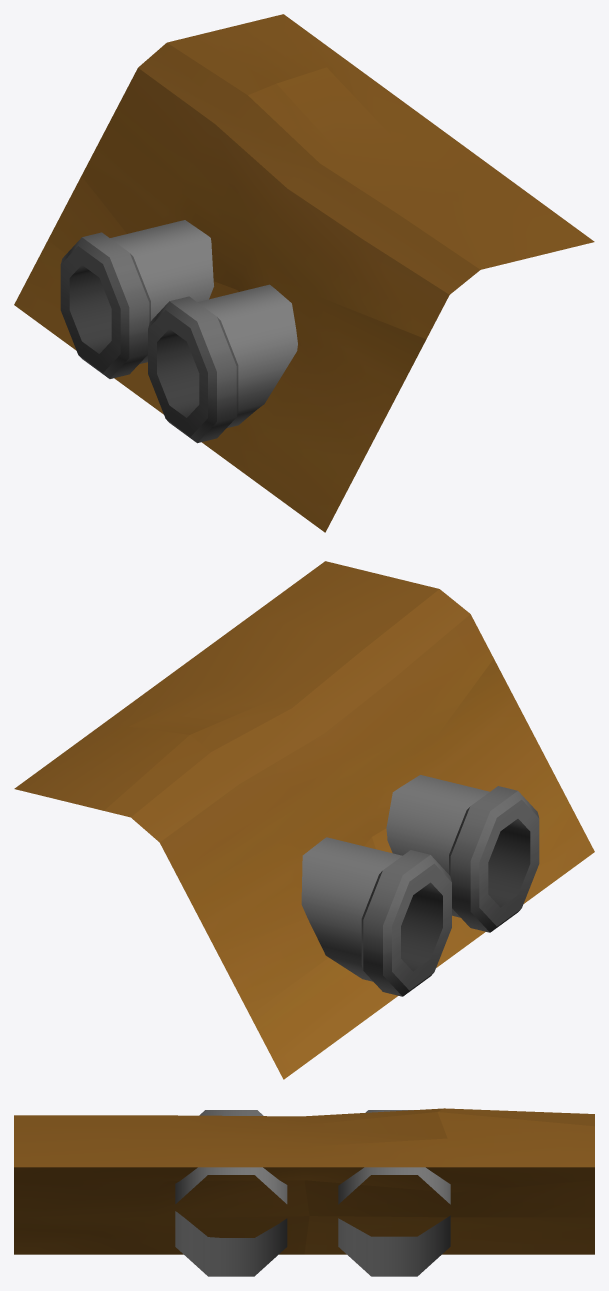
Rendered from cGround_A_Side_3.fbx.
3 views of the same model, one above another, from view 1: azimuth 30°, elevation 25°; view 2: azimuth 150°, elevation 25°; view 3: azimuth 270°, elevation 25° (orthographic). The views are drawn at different scales.
Parts seen in each view (by area): view 1: cGround_A_Side_3; view 2: cGround_A_Side_3; view 3: cGround_A_Side_3.
Boxes of the visible parts, x1,y1,x2,y2 form: cGround_A_Side_3: (14,14,594,532); cGround_A_Side_3: (14,561,594,1079); cGround_A_Side_3: (14,1108,594,1276).
Bounding box in the file's own units: 446 × 340 × 800.
